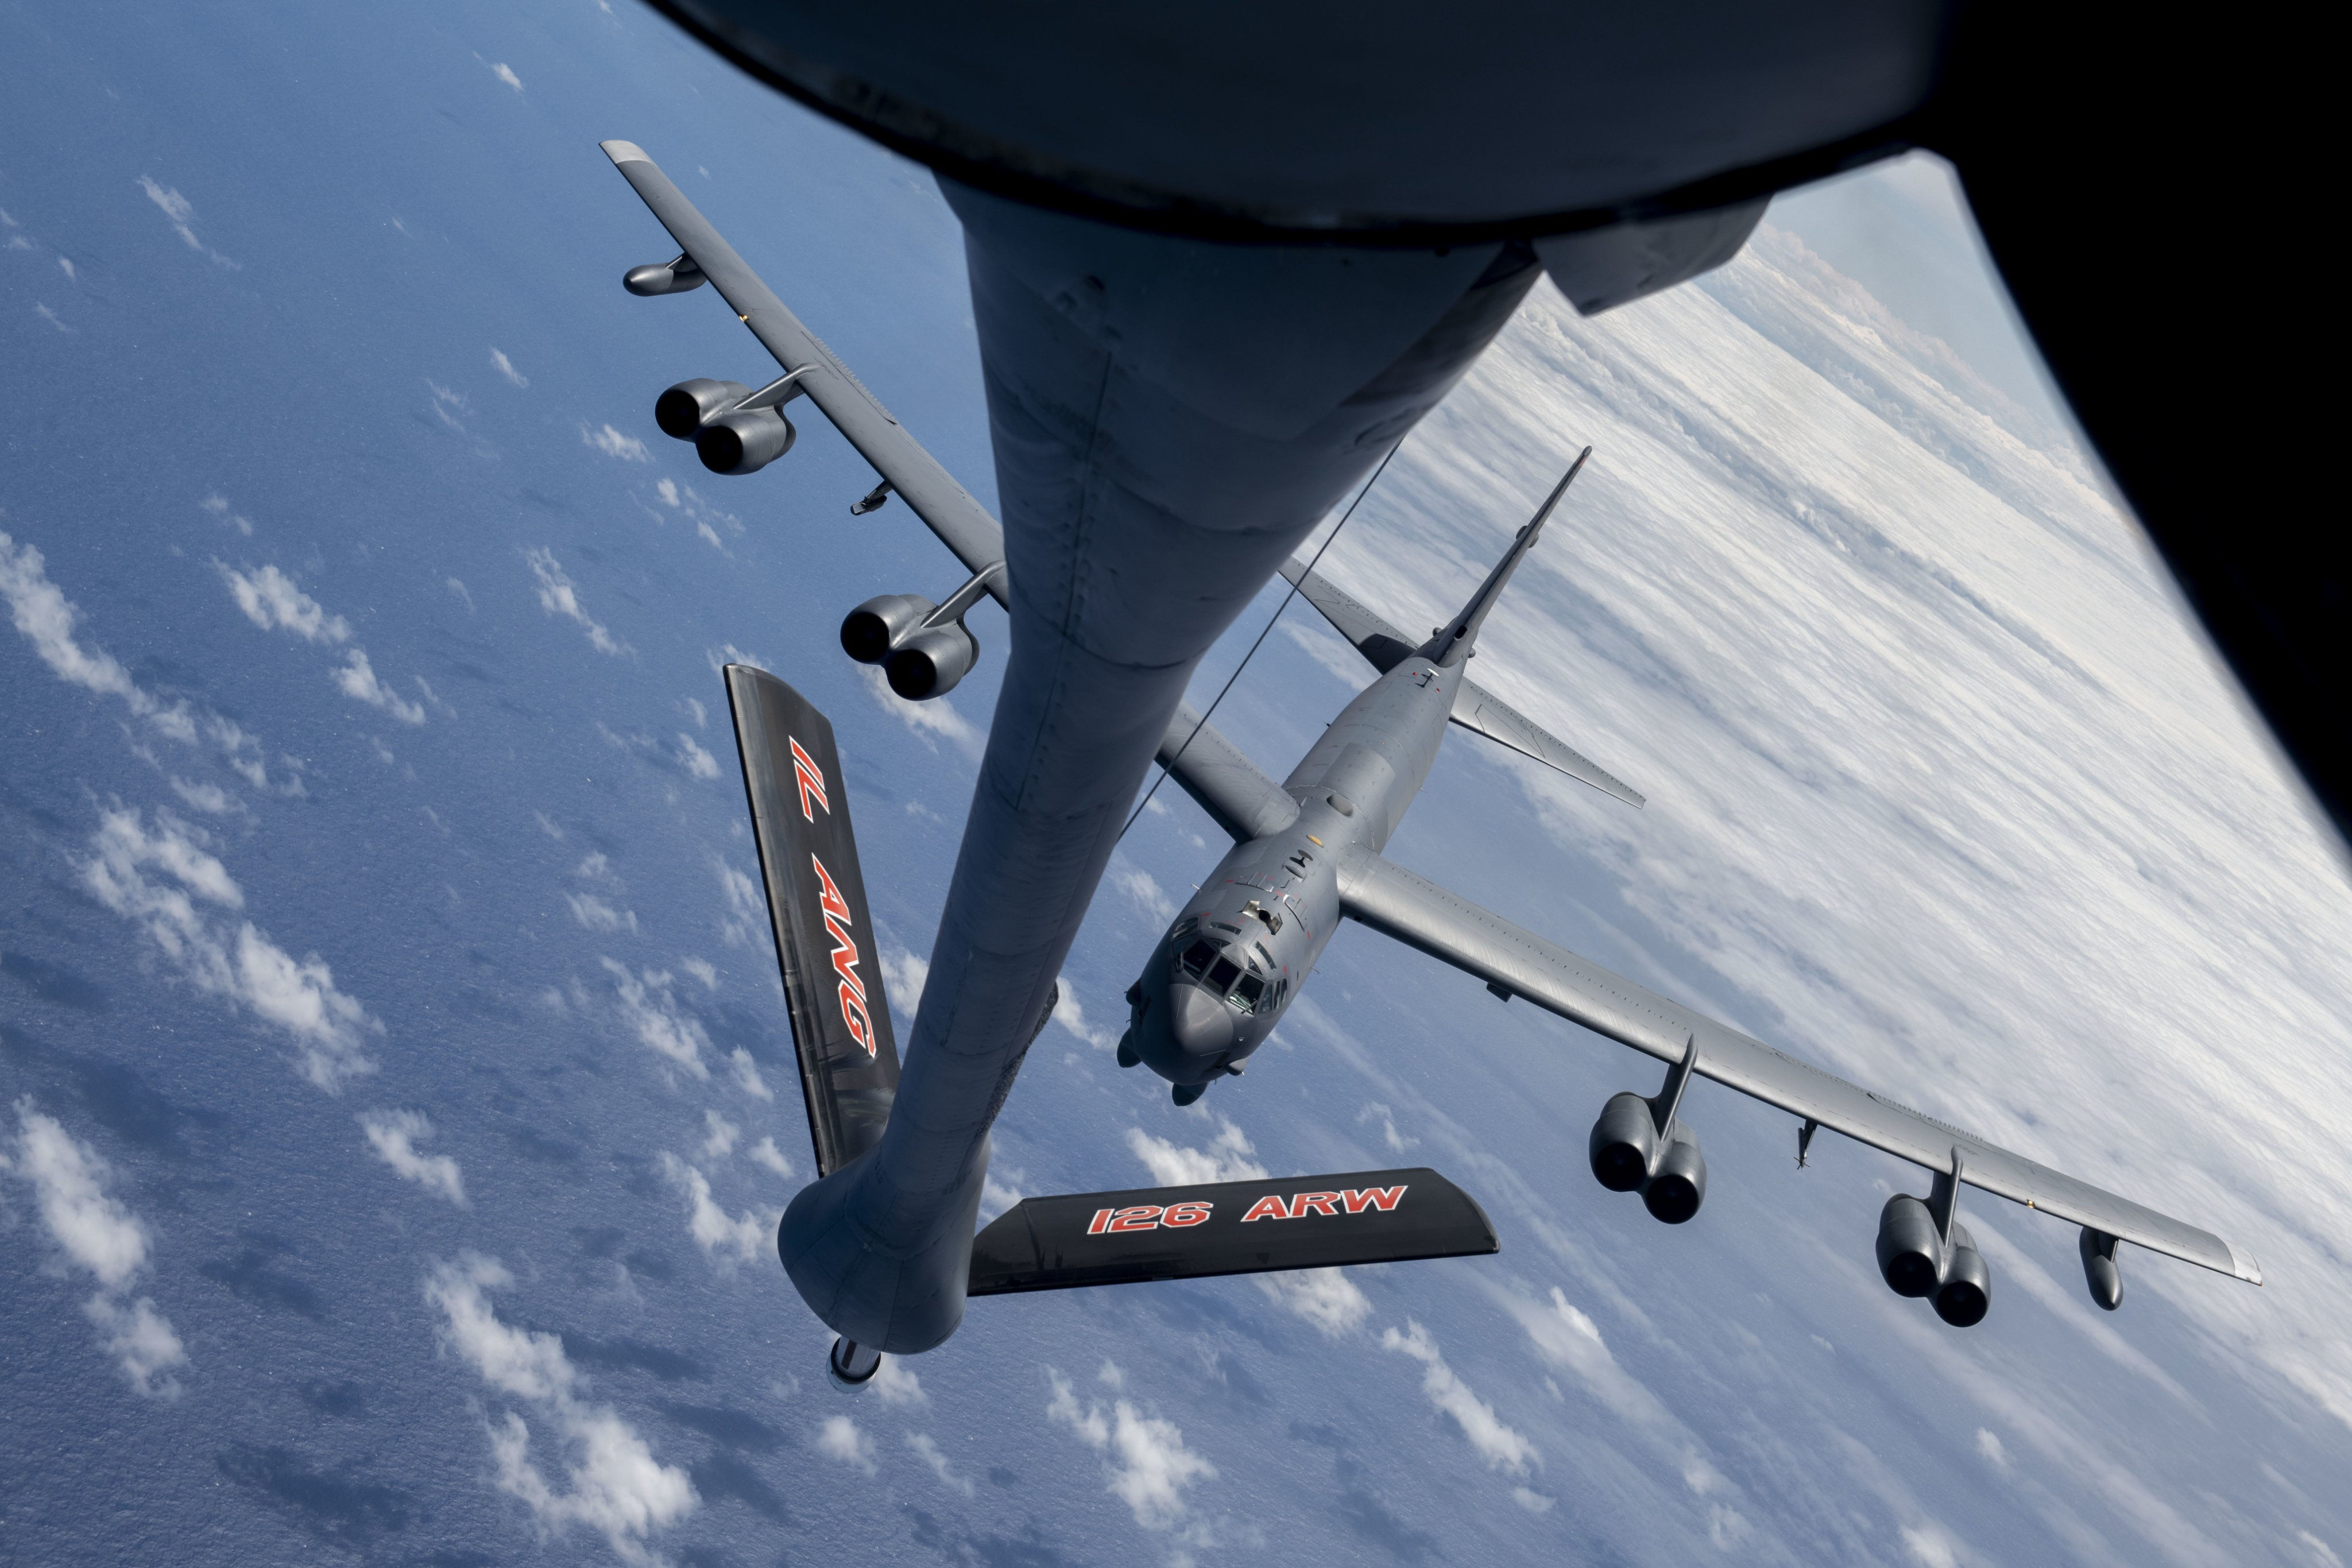B52: (598, 140, 2261, 1328)
